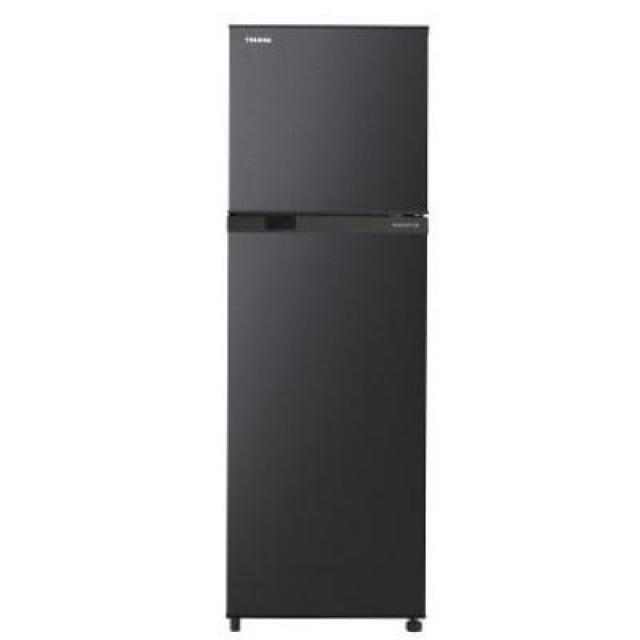refrigerator: (228, 24, 426, 618)
